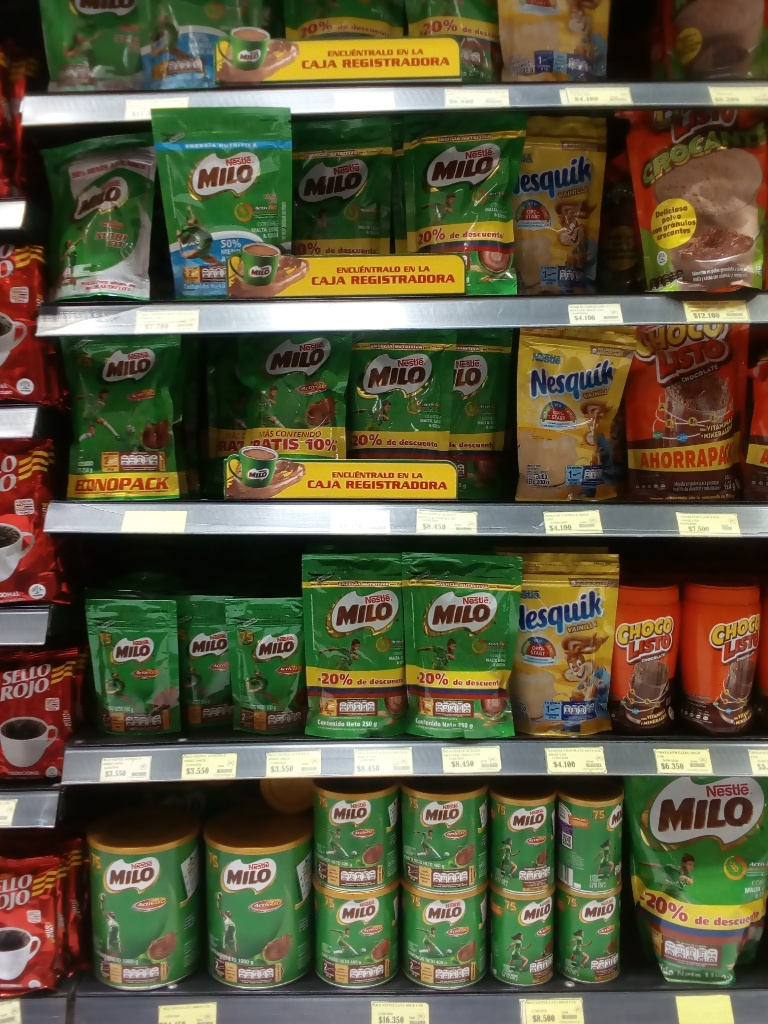COL0170102DYP50000: (616, 106, 763, 293)
COL0170103DYP44000: (625, 320, 762, 507)
COL0170103TRR30000: (602, 576, 678, 741)
COL0170203DYP10000: (84, 589, 181, 740)
COL0170203DYP25000: (62, 333, 184, 505)
COL0170203LAT20000: (557, 877, 619, 992)
COL0170203LAT40000: (307, 780, 396, 899)
COL0170205DYP20000: (152, 105, 302, 298)
COL0170306DYP20000: (509, 546, 618, 736)
